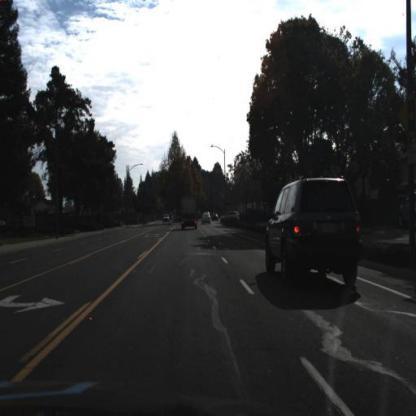car: (259, 169, 368, 294), (177, 192, 200, 236), (220, 211, 241, 224), (200, 210, 213, 228)
truck: (178, 191, 201, 239)
